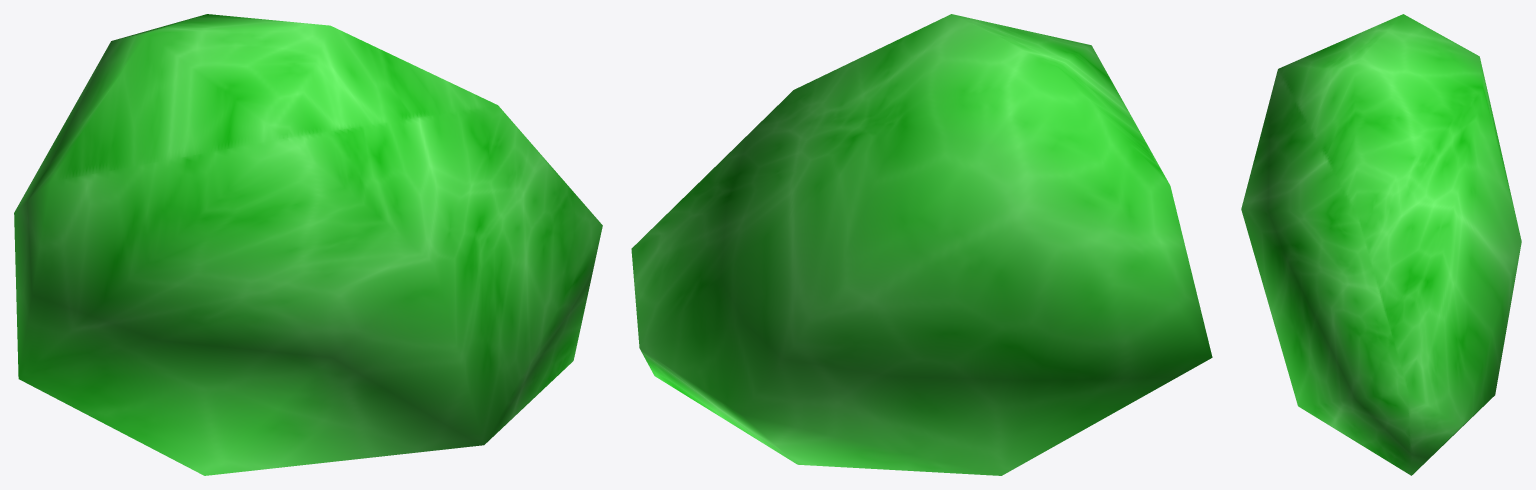
The model's file is EarthstoneParticle.fbx.
3 views of the same model, side by side, from view 1: azimuth 30°, elevation 25°; view 2: azimuth 150°, elevation 25°; view 3: azimuth 270°, elevation 25° (orthographic). The views are drawn at different scales.
Visible parts, largest first — view 1: EarthstoneParticle.026; view 2: EarthstoneParticle.026; view 3: EarthstoneParticle.026.
Boxes of the visible parts, <box> form: EarthstoneParticle.026: <box>14,14,602,475</box>; EarthstoneParticle.026: <box>631,14,1212,475</box>; EarthstoneParticle.026: <box>1241,14,1521,475</box>.
Bounding box in the file's own units: 137 × 105 × 76.94.
